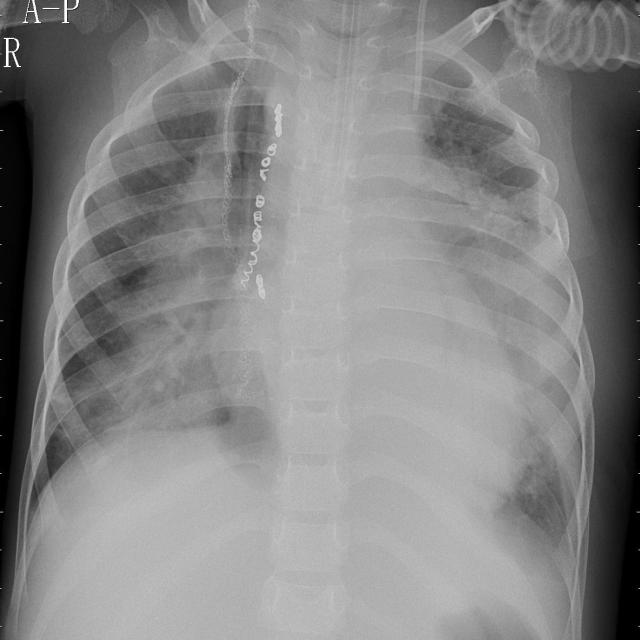high-pneumonia: (84, 32, 273, 445), (410, 143, 584, 497), (420, 42, 535, 182)
